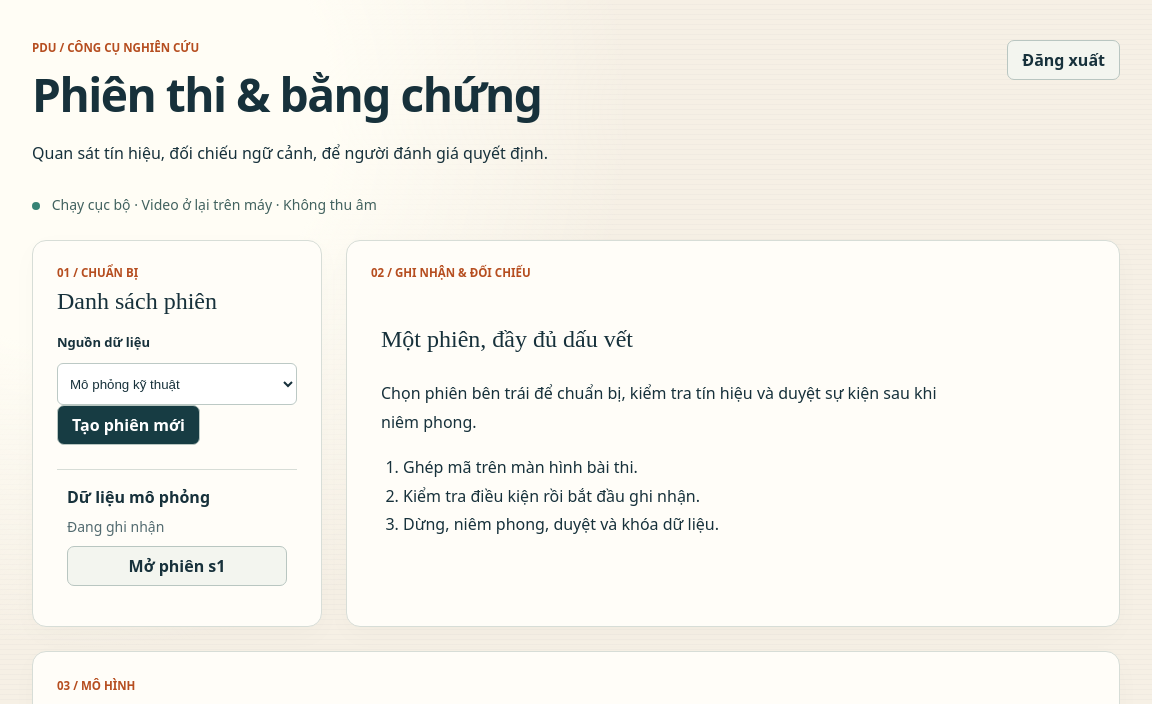
it: research workspace › renders drop and gap metrics from the session record
Expected: the text "Dữ liệu mô phỏng" is shown, [67,486,210,508]
Click the button "Mở phiên s1": [177, 566] box [67,546,287,586]
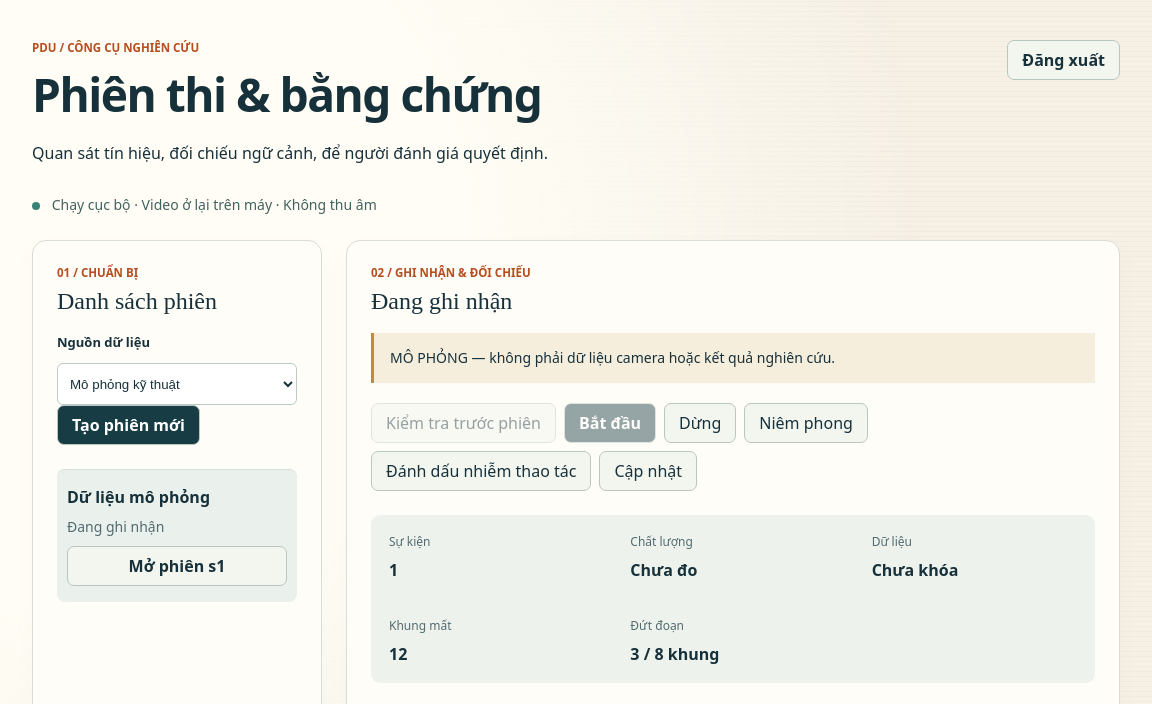
Expected: the text "12" is shown, [389,643,407,665]
Expected: the text "3 / 8 khung" is shown, [630,643,719,665]
